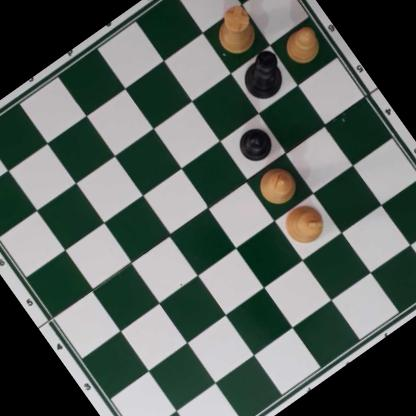black-king: (232, 46, 293, 107)
black-pawn: (231, 120, 278, 167)
white-bishop: (252, 160, 302, 211)
white-king: (275, 196, 332, 253)
white-pawn: (277, 20, 328, 71)
white-rook: (204, 0, 265, 61)
